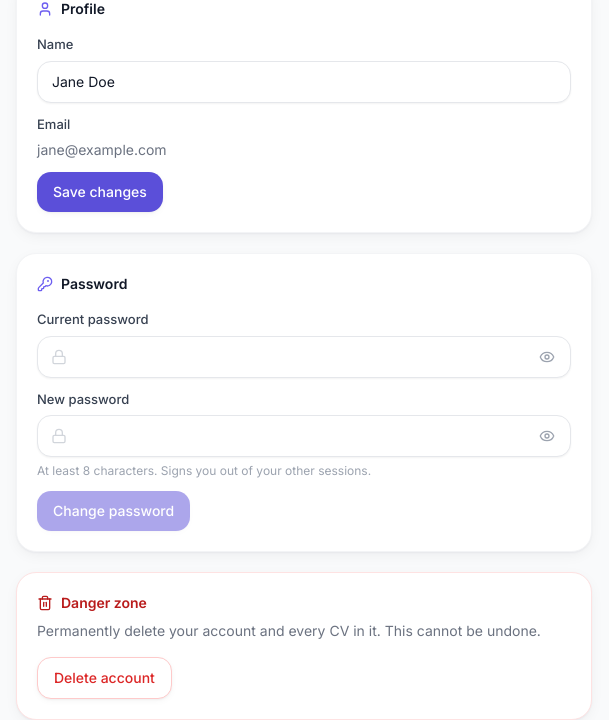
AccountSettingsPage › danger zone › requires clicking through to a confirm step before anything is deleted
(page scrolled)
Expected: the field labelled "Confirm your password" is not shown
Click the button "Delete account" at [104, 678], box [37,657,172,699]
(page scrolled)
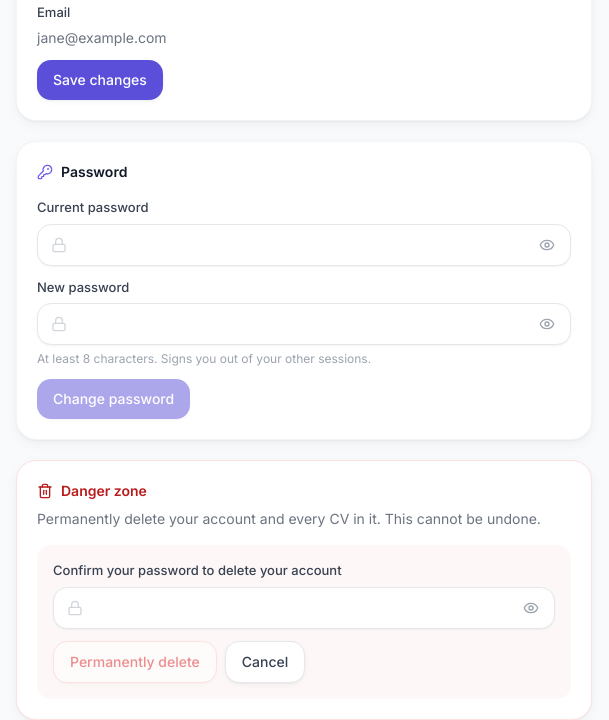
Expected: the password field labelled "Confirm your password to delete your account" is shown, [53,586,555,628]
